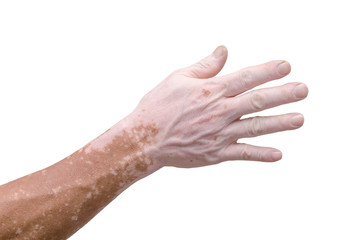vitiligo: (123, 108, 243, 163)
